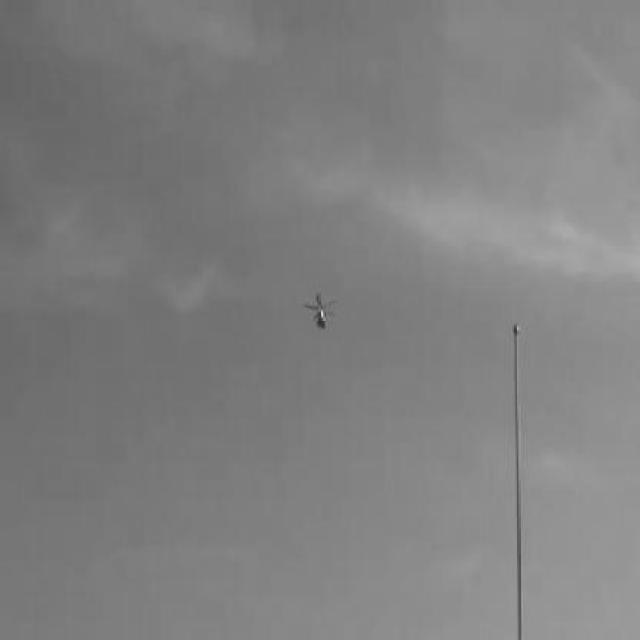helikopter: (302, 293, 336, 330)
